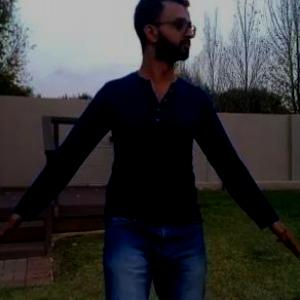land: (6, 6, 293, 299)
